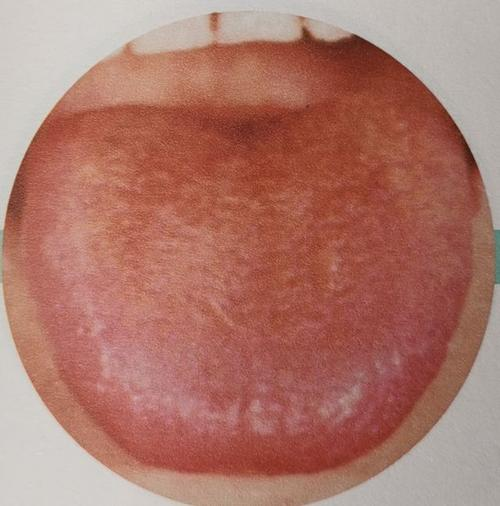hongshe: (24, 92, 475, 476)
